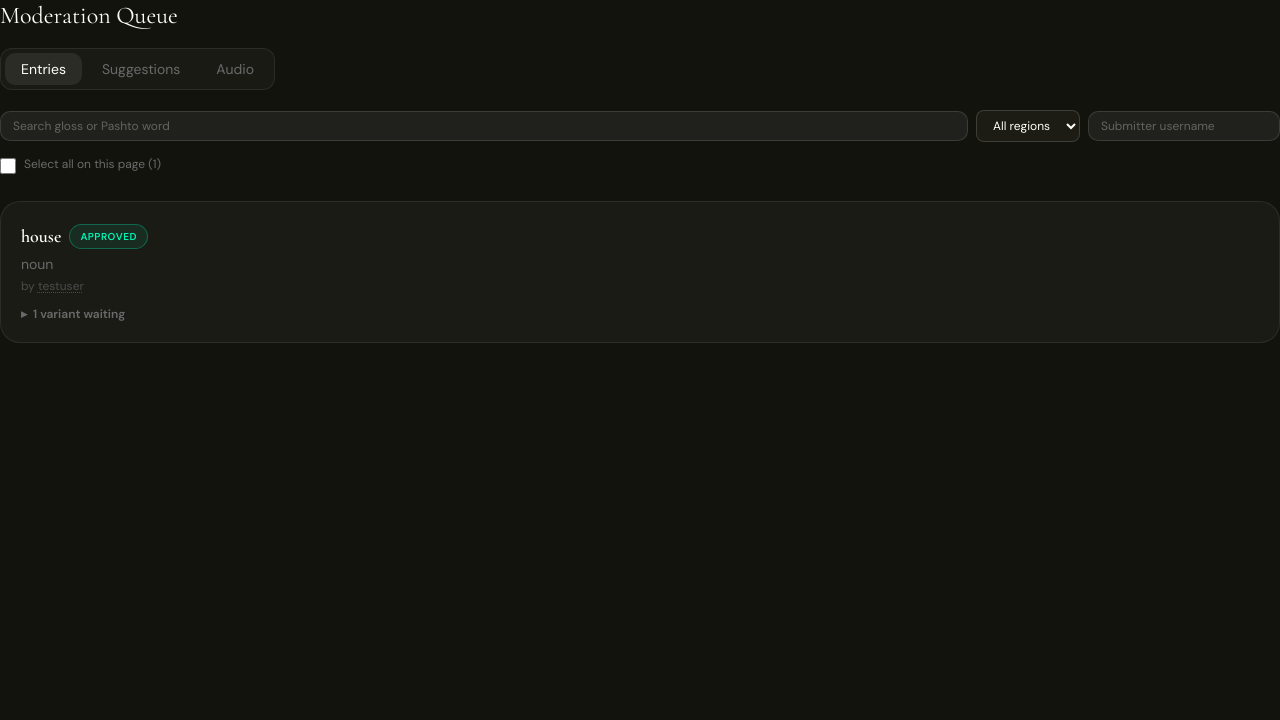
Rejection note modal — Variants tab › opens a modal when Reject is clicked on a variant
Click the button "▸ 1 variant waiting". click: (73, 314)
box: x1=21 y1=306 x2=125 y2=322
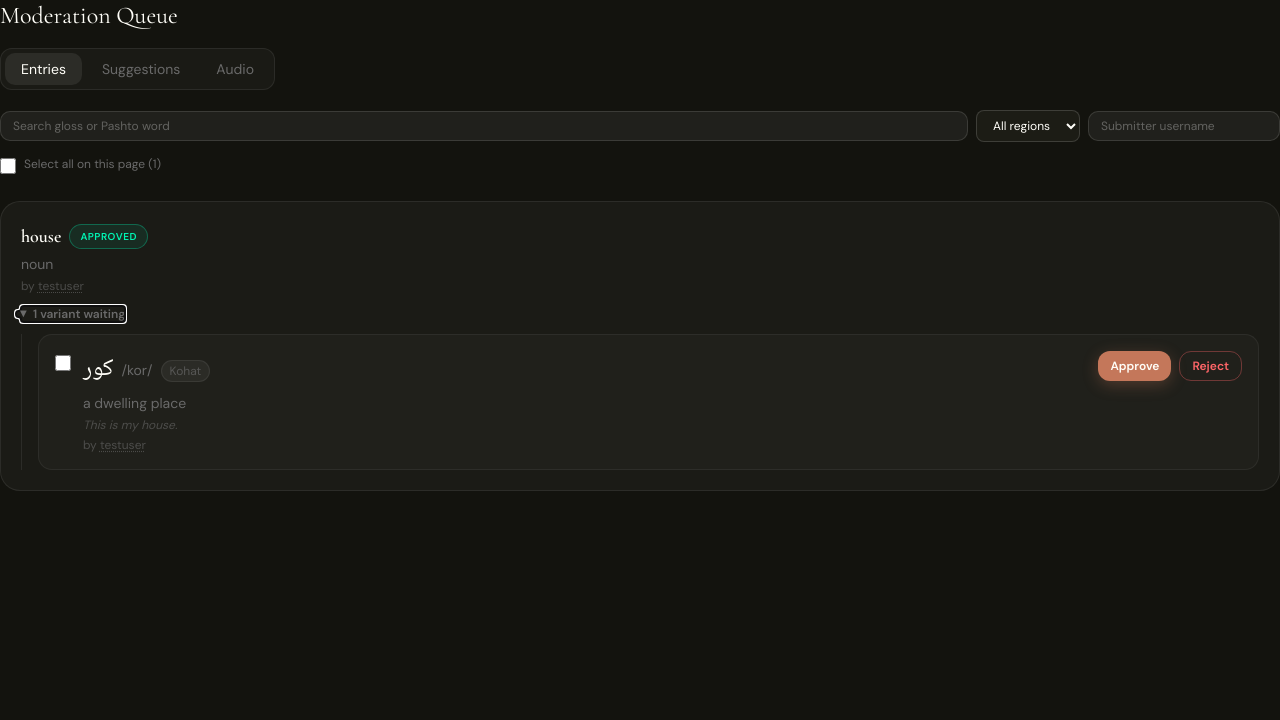
Click the button "Reject". click: (1211, 366)
box: x1=1179 y1=351 x2=1242 y2=381
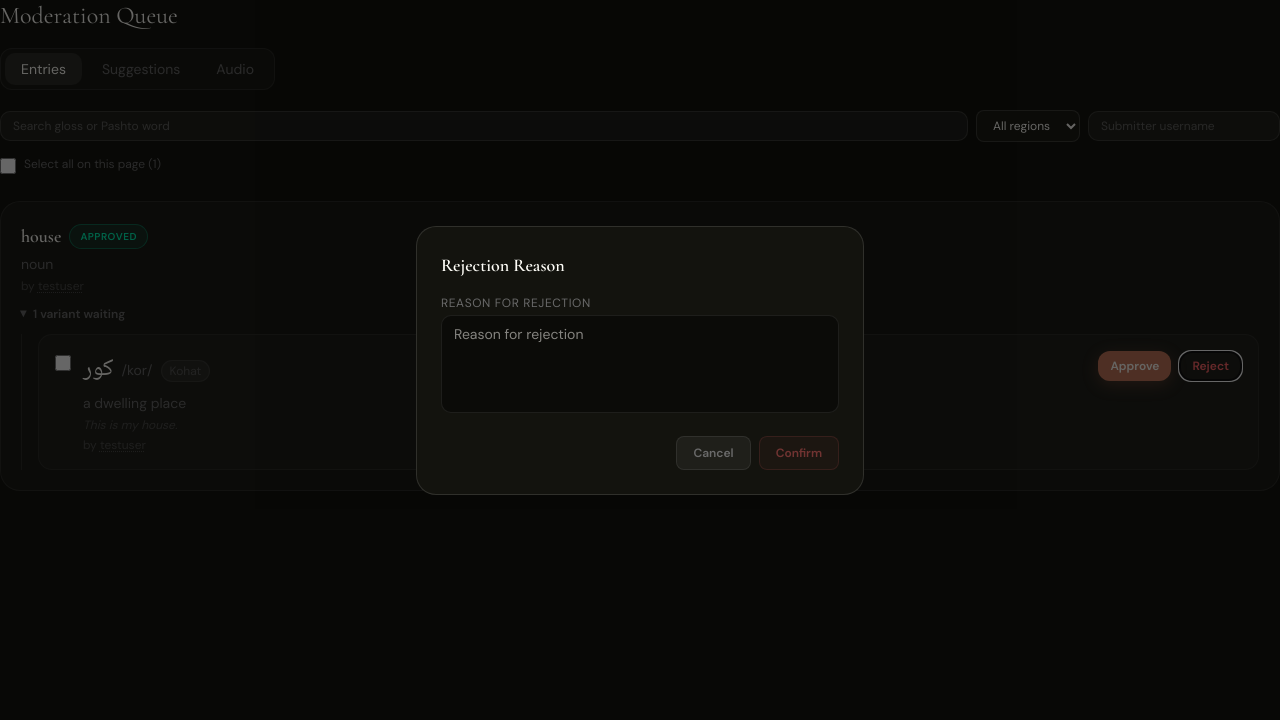
Expected: the dialog is shown
